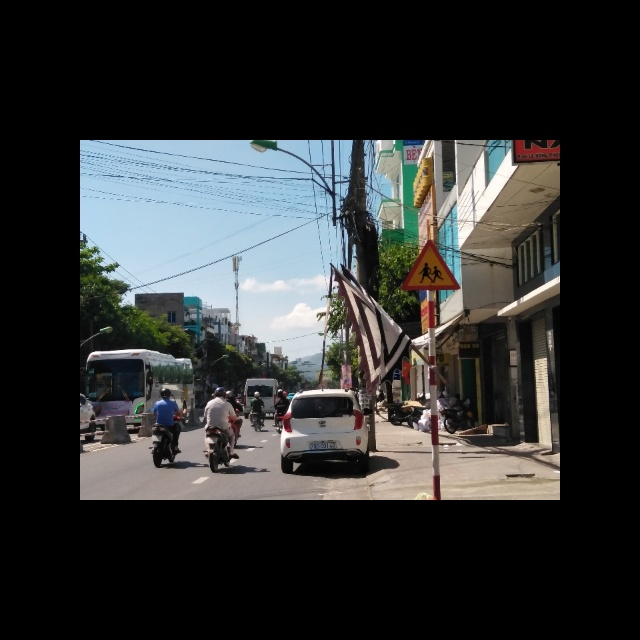Trẻ em ngang qua: (398, 237, 461, 291)
